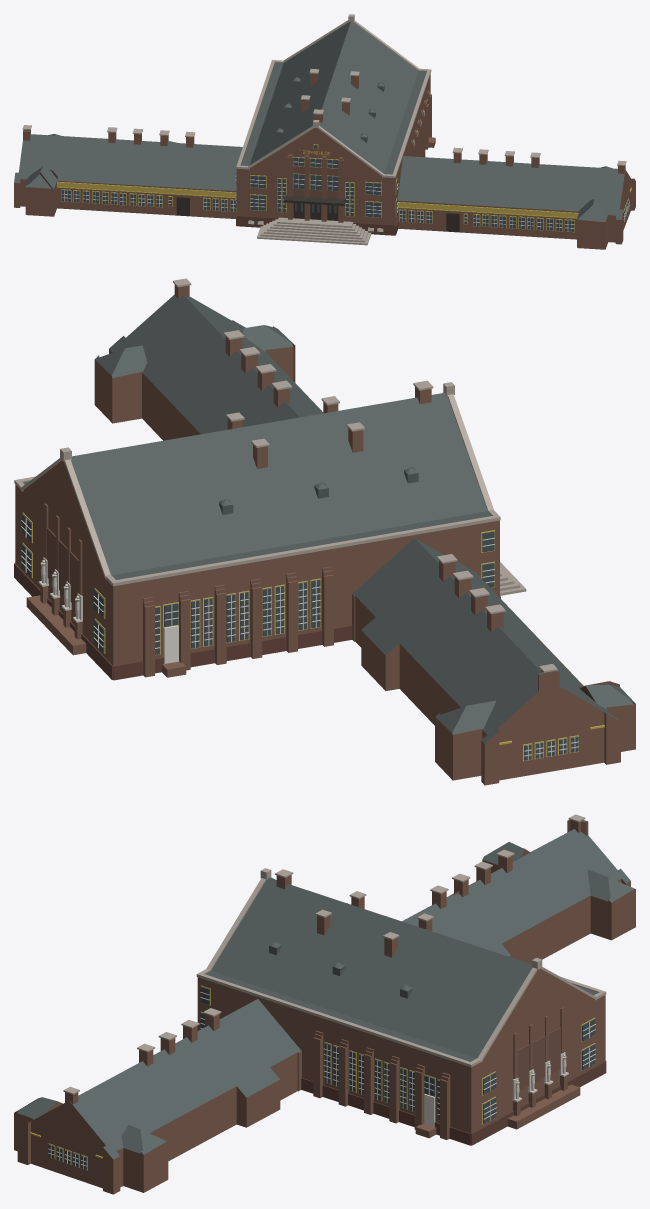
File: zonnehuis.glb
3 views of the same model, one above another, from view 1: azimuth 30°, elevation 25°; view 2: azimuth 150°, elevation 25°; view 3: azimuth 270°, elevation 25° (orthographic). The views are drawn at different scales.
Visible parts, largest first — view 1: zonnehuis; view 2: zonnehuis; view 3: zonnehuis.
Boxes of the visible parts, x1,y1,x2,y2 form: zonnehuis: [14, 14, 635, 249]; zonnehuis: [14, 278, 635, 785]; zonnehuis: [14, 814, 635, 1194].
Bounding box in the file's own units: 68.61 × 15.65 × 57.98.
